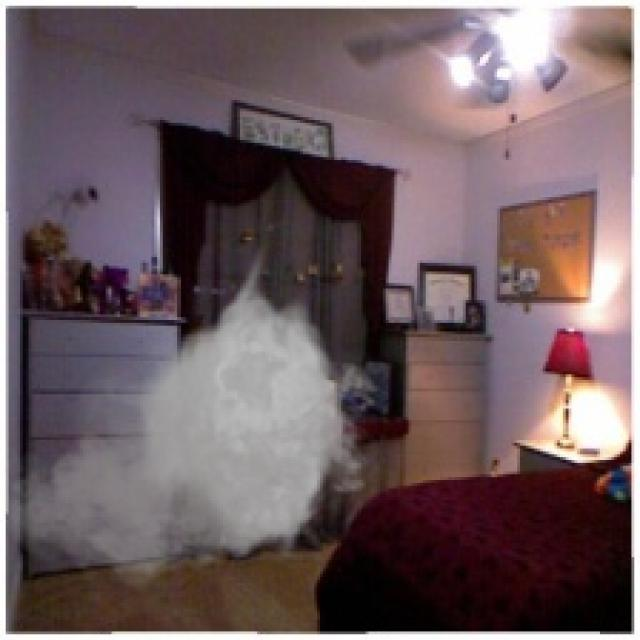smoke: (0, 242, 392, 595)
